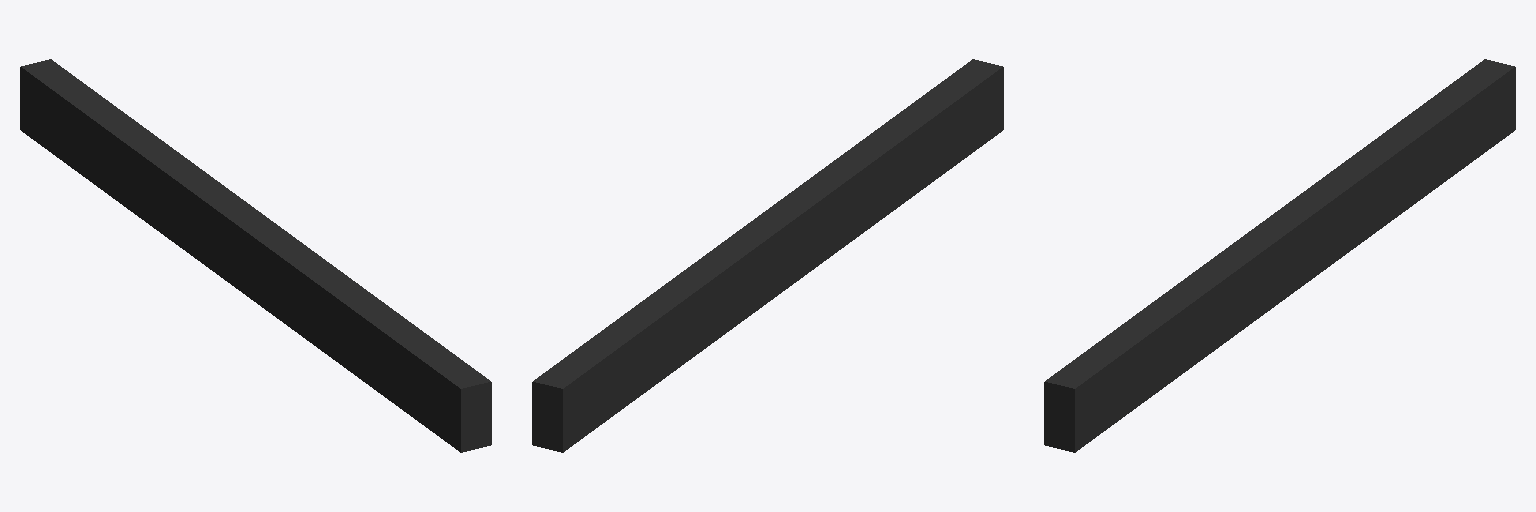
URDF robot description (wall):
<robot name="wall">
  <link name="baseLink">
   
    <inertial>
      <origin rpy="0 0 0" xyz="0 0 0" />
       <mass value="10" />
       <inertia ixx="0" ixy="0" ixz="0" iyy="0" iyz="0" izz="0" />
    </inertial>
    <visual>
      <origin rpy="0 0 0" xyz="0 0 0" />
      <geometry>
			  <box size="0.1 2.5 0.2" />
      </geometry>
       <material name="grey">
        <color rgba="0.24 0.24 0.24 1" />
      </material>
    </visual>
    <collision>
      <origin rpy="0 0 0" xyz="0 0 0" />
      <geometry>
	 	      <box size="0.1 2.5 0.2" />
      </geometry>
    </collision>
  </link>
</robot>

--- Facts derived from the render (not from the file) ---
The picture shows the robot from 3 angles, left to right: view 1: azimuth 30°, elevation 25°; view 2: azimuth 150°, elevation 25°; view 3: azimuth 330°, elevation 25°; orthographic projection.
Robot: wall — 1 links, 0 joints (none); root link baseLink; default pose: all joints at 0.
Links seen in each view (by area): view 1: baseLink; view 2: baseLink; view 3: baseLink.
Boxes of the visible links, bbox=[...] form: baseLink: bbox=[20, 59, 491, 452]; baseLink: bbox=[532, 59, 1003, 452]; baseLink: bbox=[1044, 59, 1515, 452].
Size in the robot's own frame: 0.1 by 2.5 by 0.2 metres.
Geometry: primitives only (box / cylinder / sphere), no mesh files.
